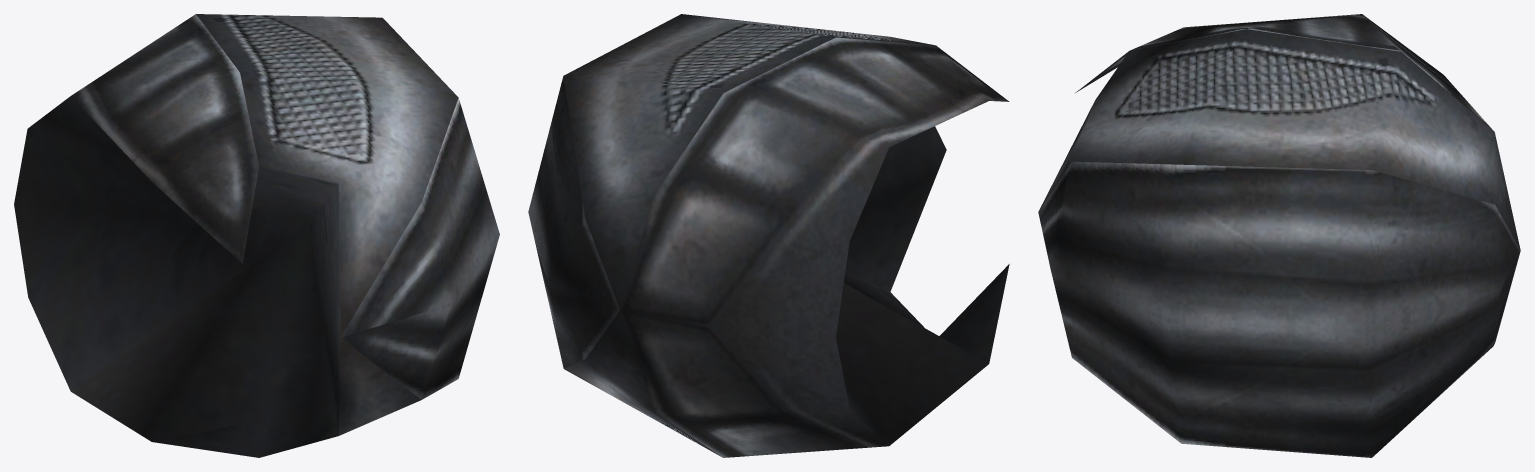
The model's file is Helmet7__EC.glb.
3 views of the same model, side by side, from view 1: azimuth 30°, elevation 25°; view 2: azimuth 150°, elevation 25°; view 3: azimuth 270°, elevation 25° (orthographic).
Parts seen in each view (by area): view 1: Helmet7; view 2: Helmet7; view 3: Helmet7.
Part boxes in pixels (<box>): Helmet7: <box>14,14,499,457</box>; Helmet7: <box>528,14,1009,457</box>; Helmet7: <box>1038,14,1520,457</box>.
Size of the model in its own units: 11.33 by 11.15 by 13.16.
1 material, 1 textured.
